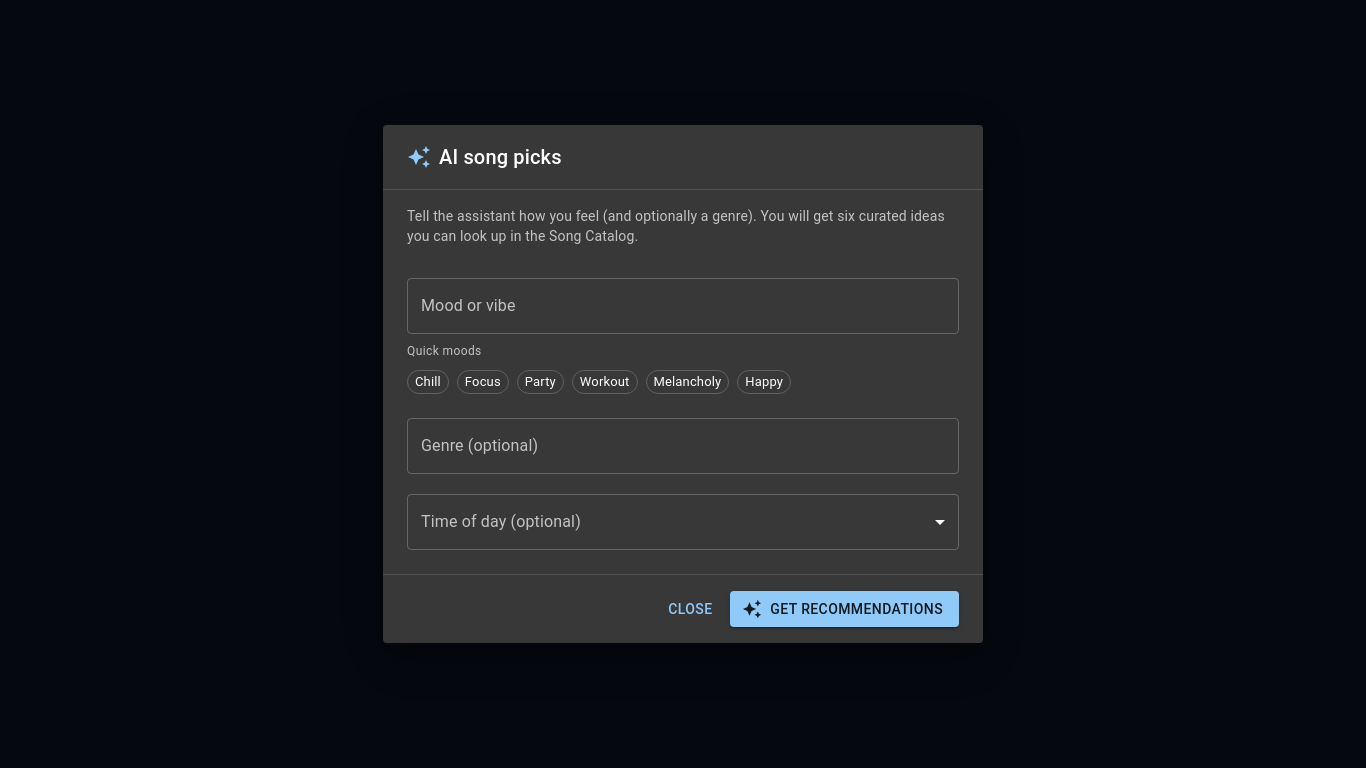
AIRecommendationsDialog › shows an error when Get Recommendations is clicked without a mood
Click the button "Get recommendations" at (845, 609), box [730,591,959,627]
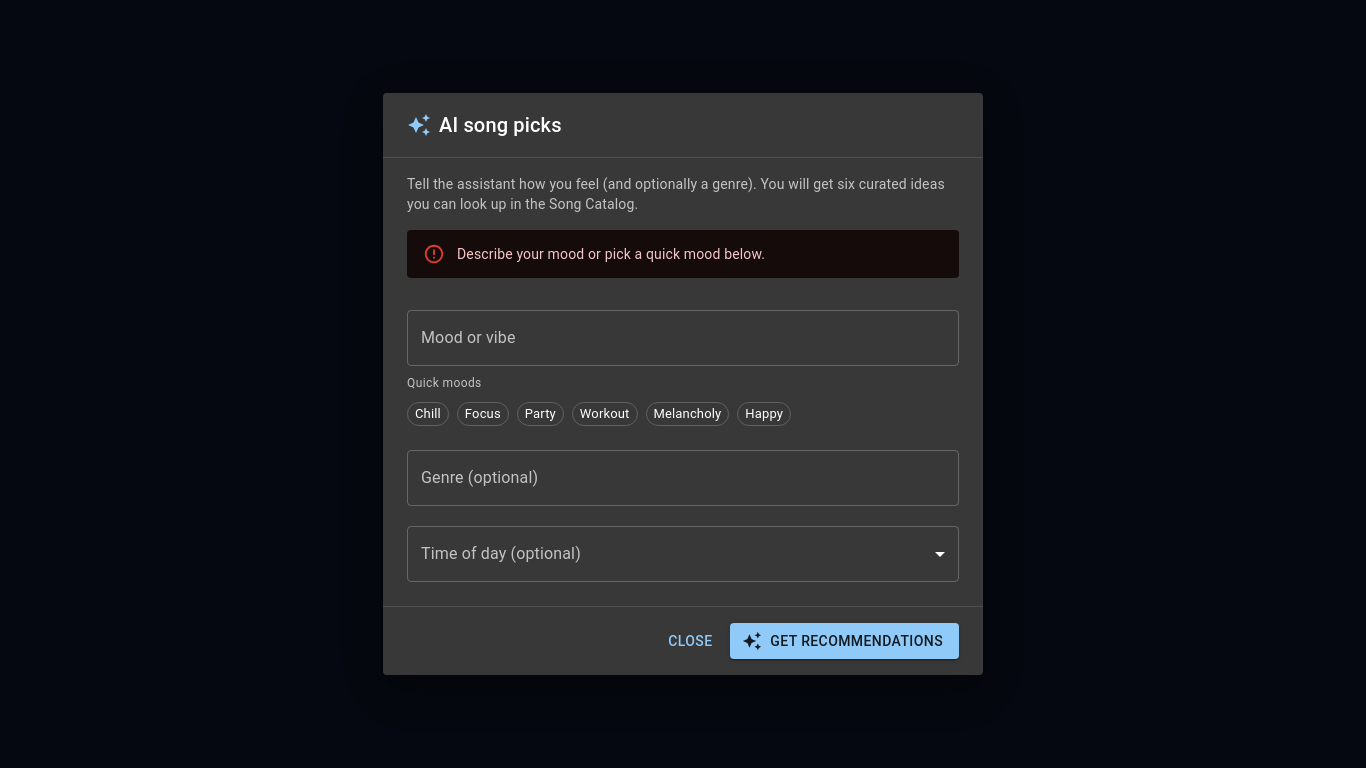
Check: the text "Describe your mood or pick a quick mood below." is shown, box [457,246,765,262]
